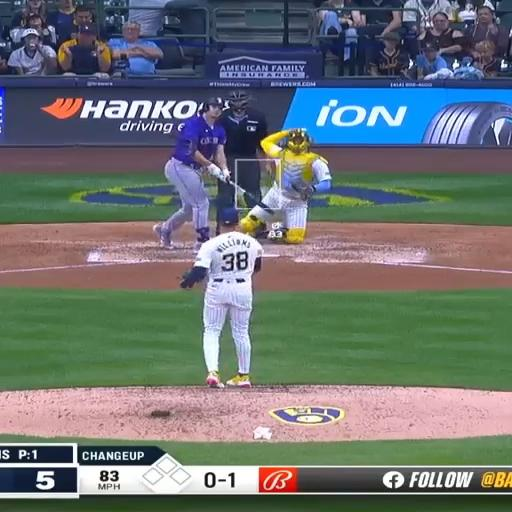bat: (227, 180, 274, 215)
